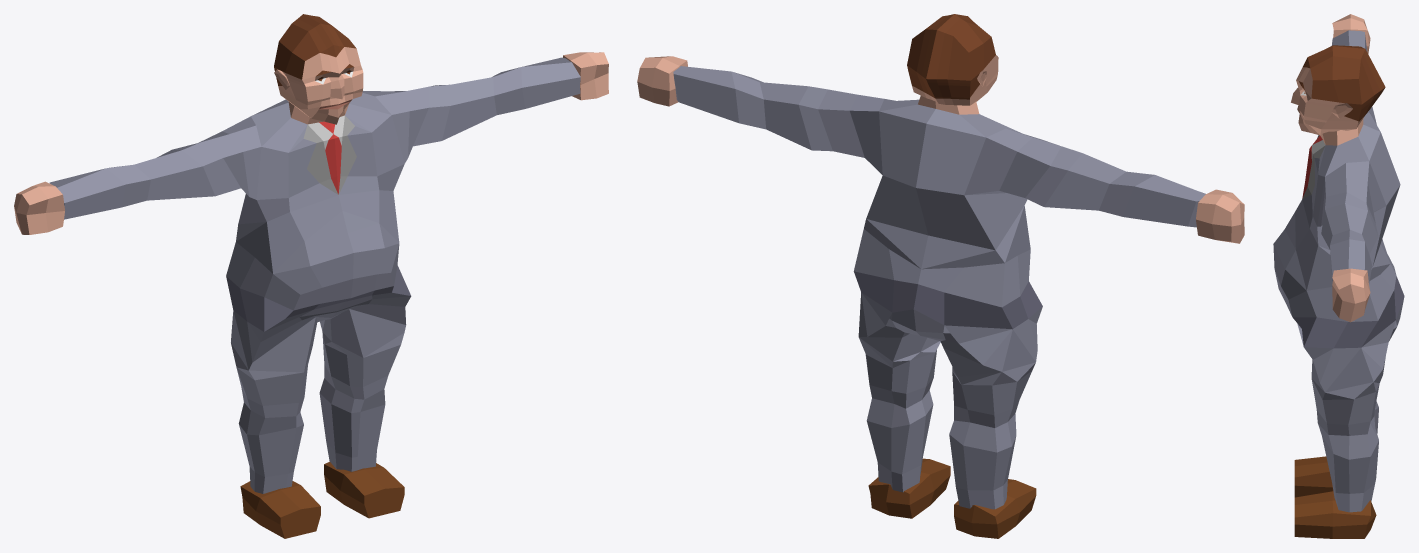
The model's file is Papa2.fbx.
3 renders of one model, left to right at view 1: azimuth 30°, elevation 25°; view 2: azimuth 150°, elevation 25°; view 3: azimuth 270°, elevation 25°, orthographic. The views are drawn at different scales.
Visible parts, largest first — view 1: corps, tete, Cube, main; view 2: corps, tete, Cube, main; view 3: corps, tete, Cube, main.
Boxes of the visible parts, <box> form: corps: <box>49,57,580,493</box>; tete: <box>274,14,363,124</box>; Cube: <box>240,461,404,538</box>; main: <box>14,52,608,234</box>; corps: <box>673,66,1205,509</box>; tete: <box>907,14,998,105</box>; Cube: <box>868,458,1036,538</box>; main: <box>637,56,1244,243</box>; corps: <box>1273,30,1404,512</box>; tete: <box>1291,45,1385,135</box>; Cube: <box>1294,456,1376,538</box>; main: <box>1332,14,1370,322</box>.
Size of the model in its own units: 1648 by 1302 by 334.
